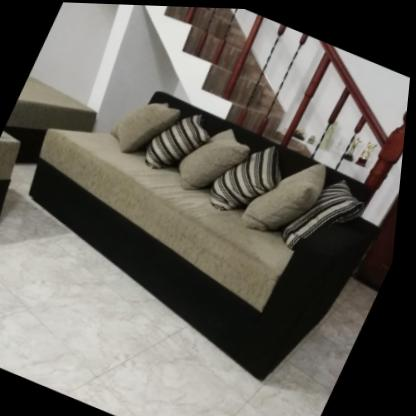Sofa: (0, 54, 408, 395)
